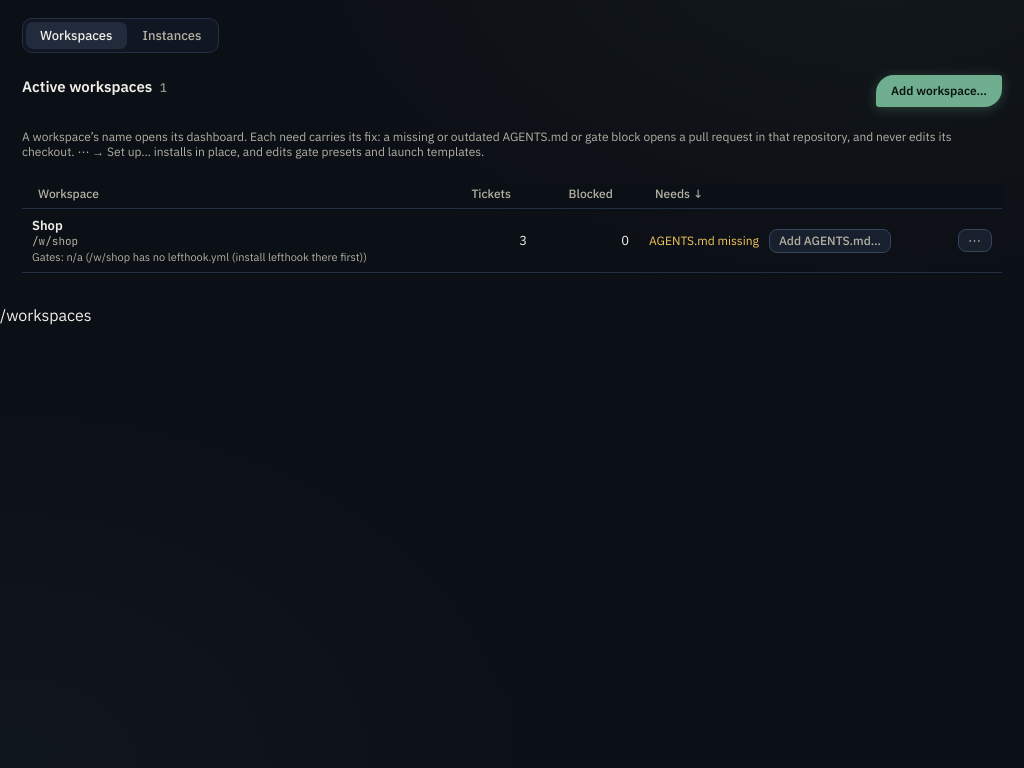
Test: reports a broken repo file on its workspace
What coordinates should you click on to do the following:
click the button "⋯"
I would click on:
 (975, 241)
Its box is [958, 229, 992, 252].
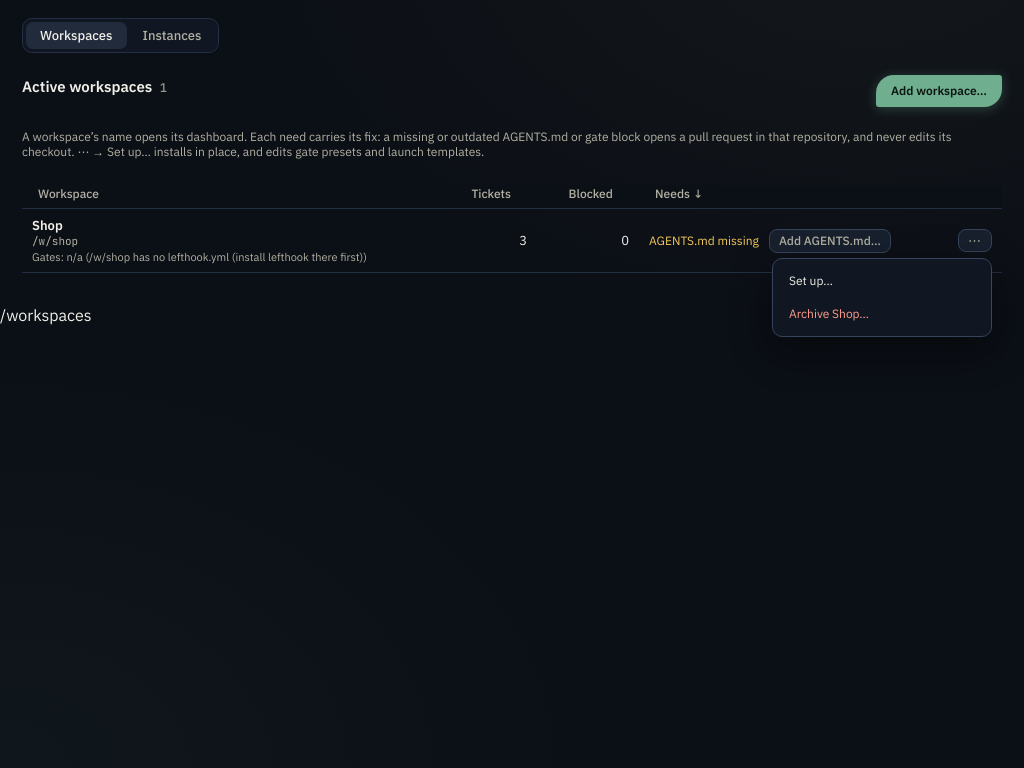
What coordinates should you click on to do the following:
click the menu item "Set up…"
I would click on:
 (882, 282)
Its box is [779, 265, 985, 298].
(page scrolled)
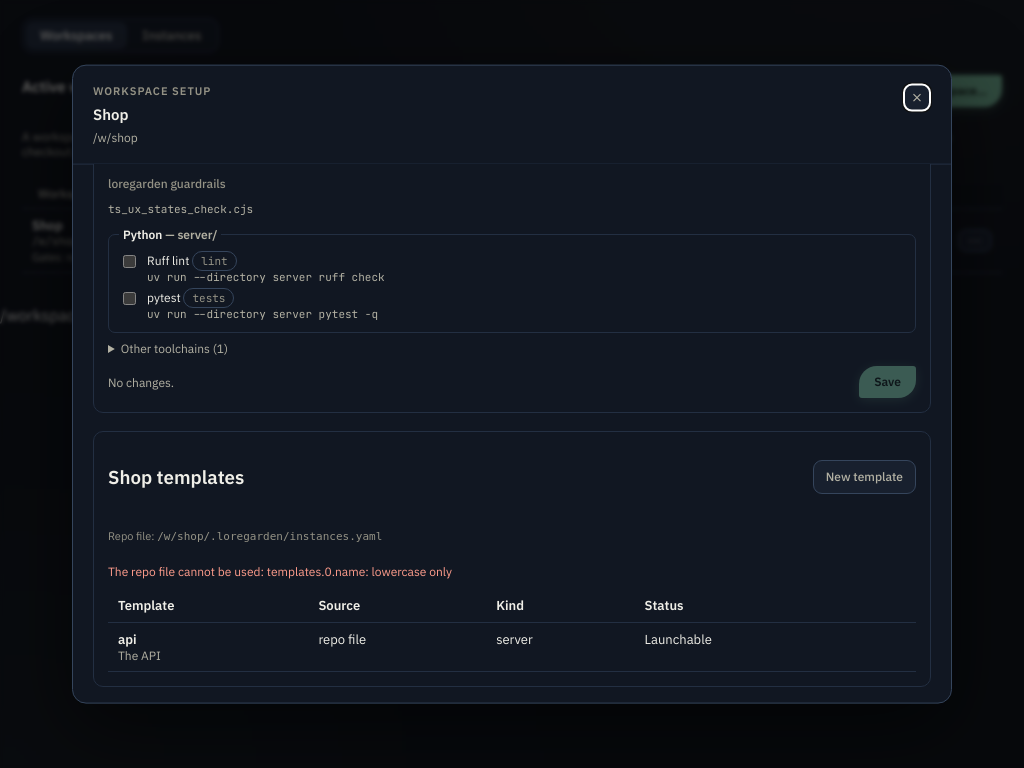
Expected: the text "The repo file cannot be used: templates.0.name: lowercase only" is shown, [108, 564, 452, 578]
